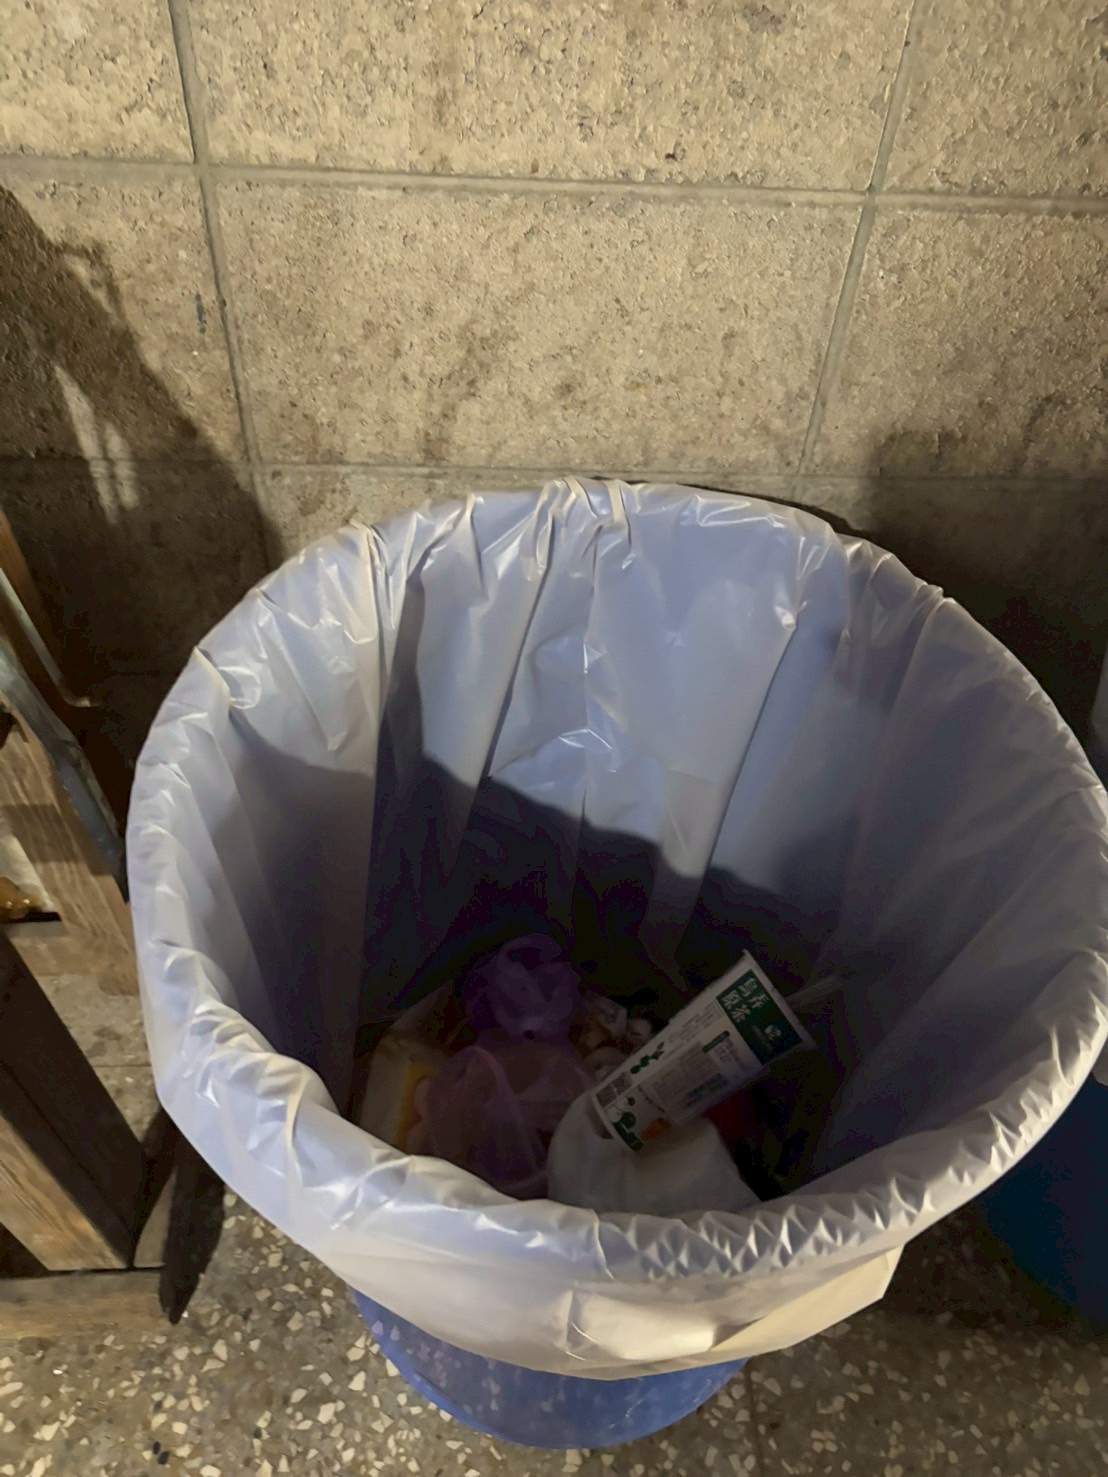normal_bin: (98, 452, 1108, 1462)
